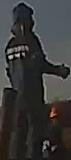gloves: (54, 63, 71, 80)
vest: (5, 34, 46, 106)
